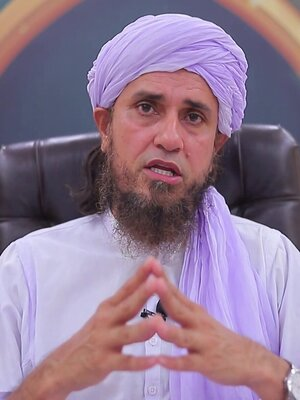NoMask: (121, 87, 209, 207)
